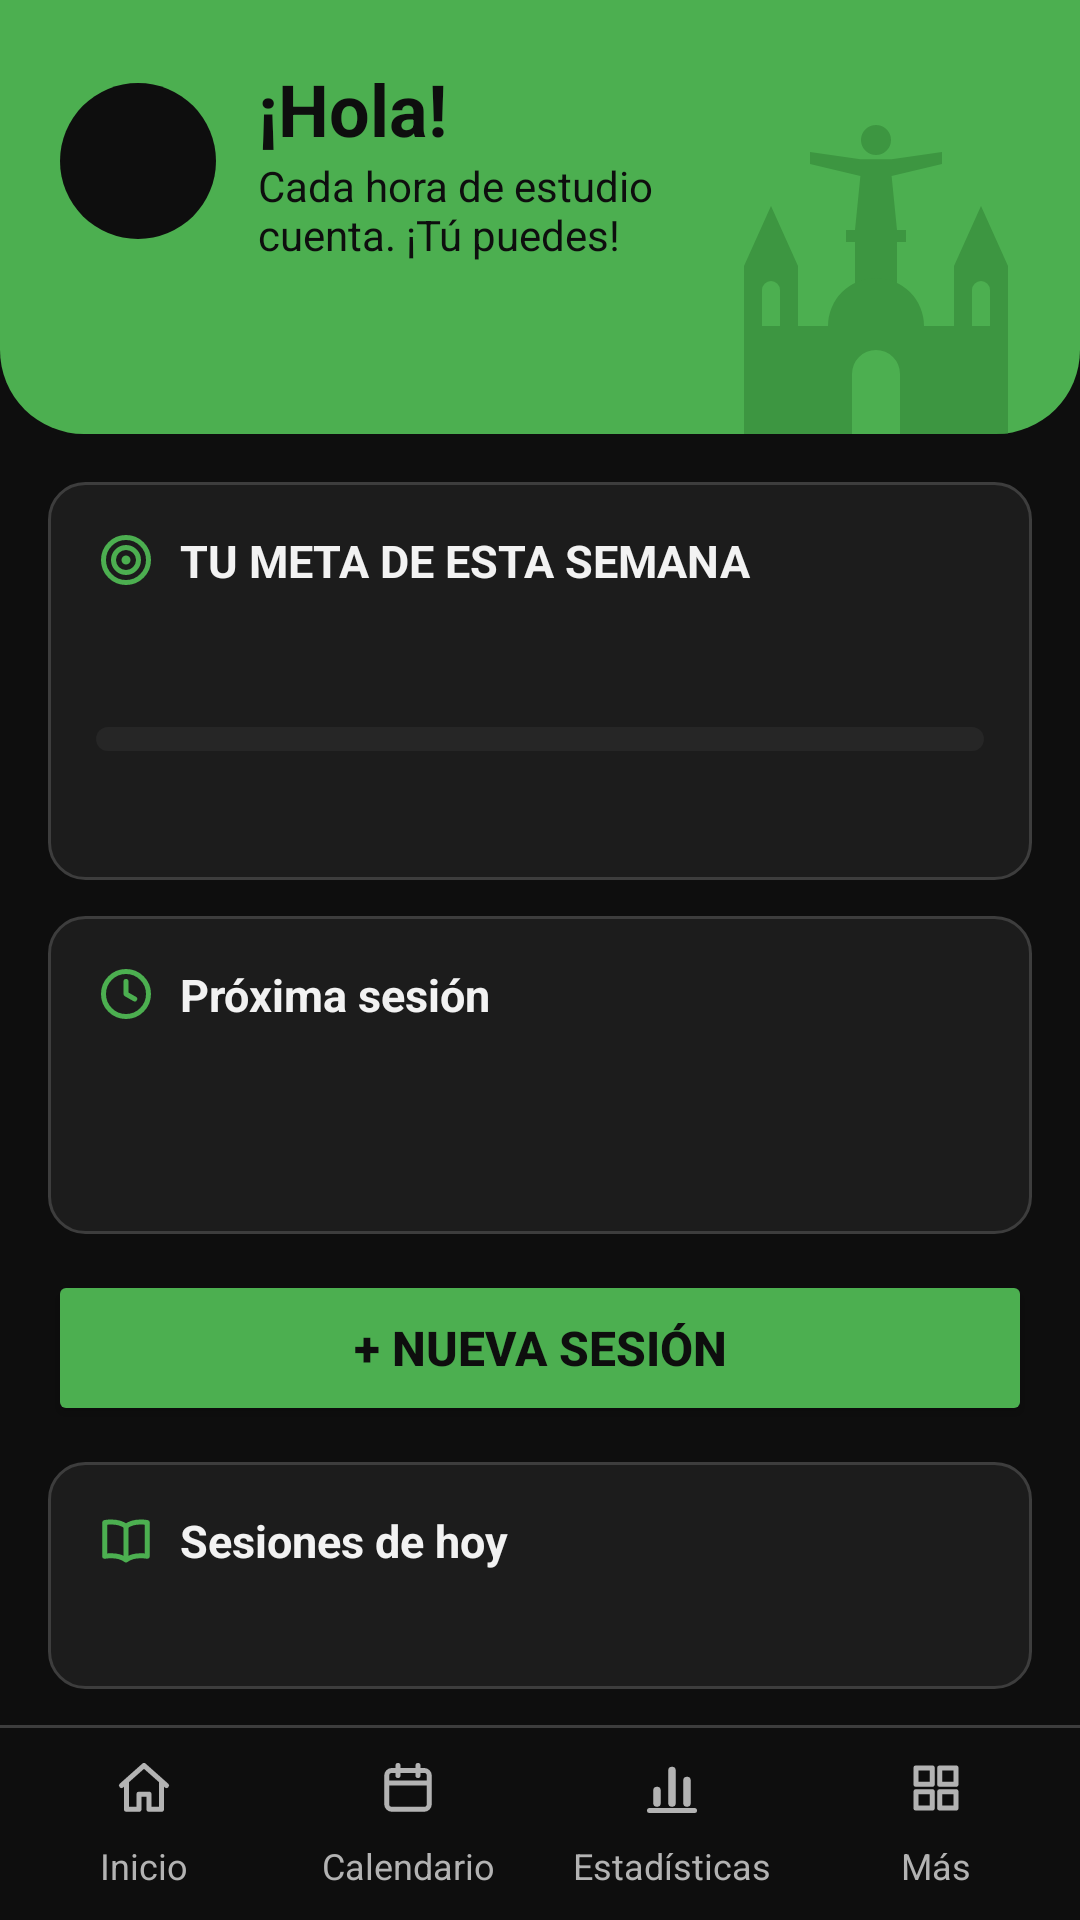

Locate icon controls on the screen. Image size 1080*1920, boxes as (x1, y1, x2, y2).
siluetas santa cruz: (744, 125, 1032, 434)
